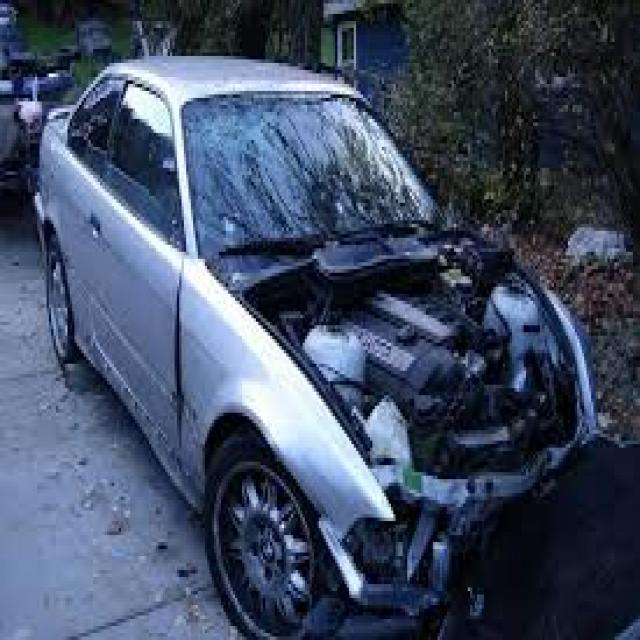severe: (173, 228, 624, 619)
